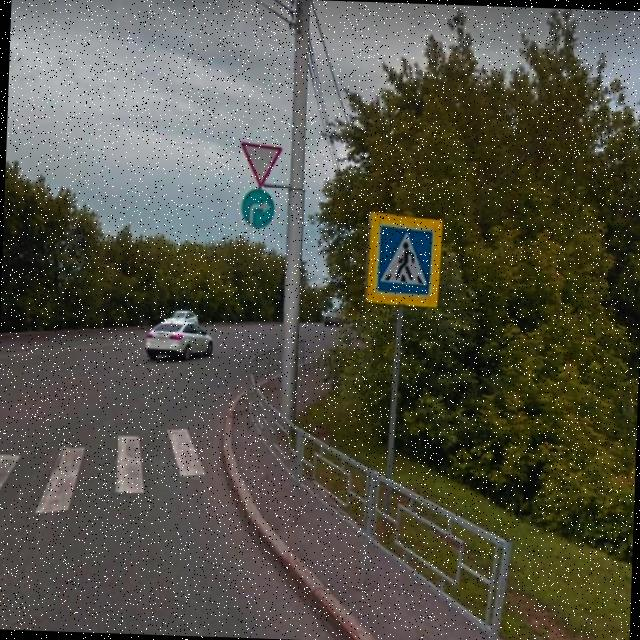Przejscie dla pieszych: (363, 210, 443, 310)
Ustap pierwszenstwa: (237, 140, 285, 192)
